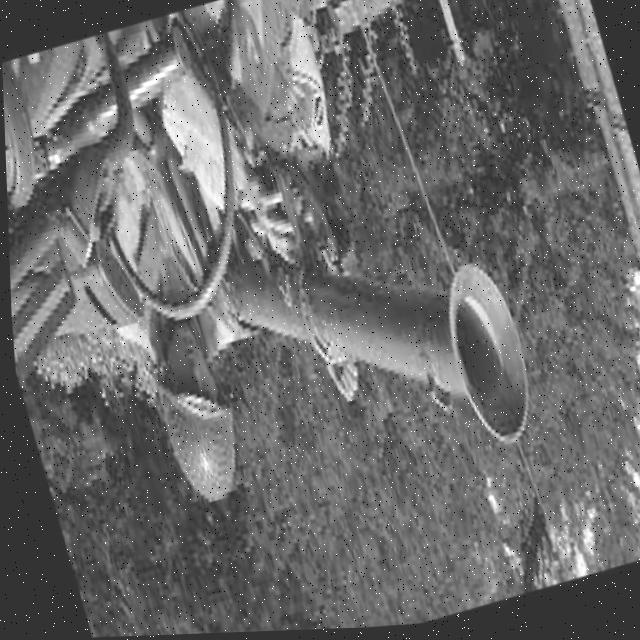rocket: (207, 189, 551, 526)
